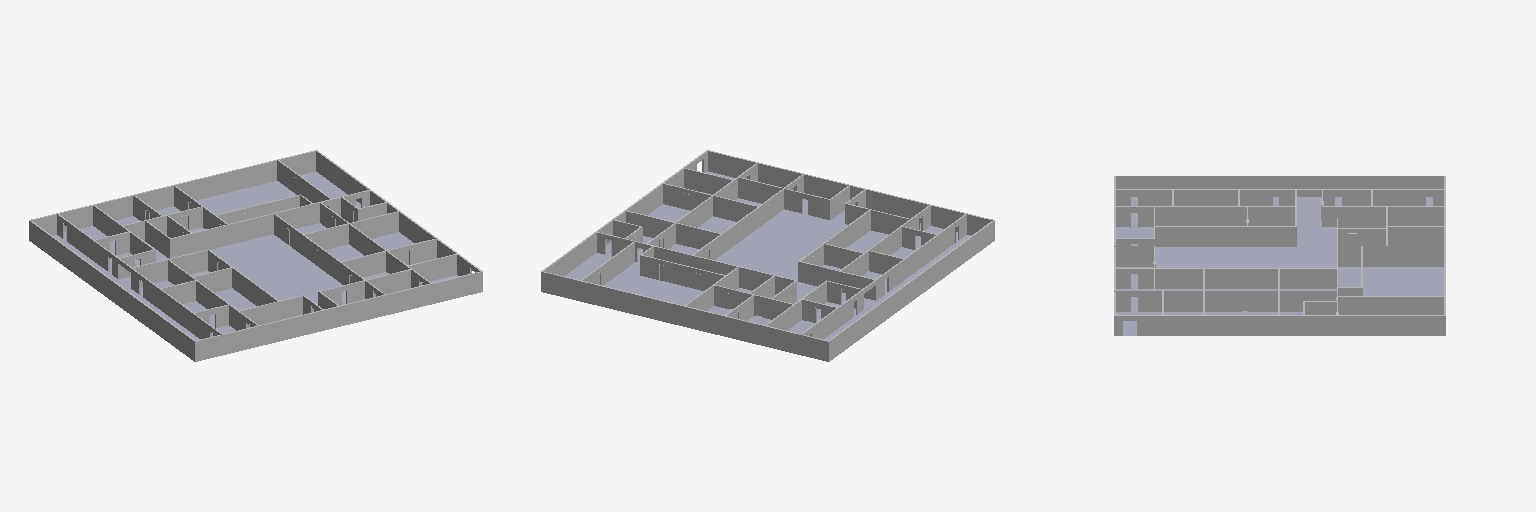
The model's file is CasaClaro2.obj.
The picture shows the model from 3 angles: view 1: azimuth 30°, elevation 25°; view 2: azimuth 150°, elevation 25°; view 3: azimuth 270°, elevation 25°; orthographic projection.
Visible parts, largest first — view 1: Wall_Wall.003, Plane.001, Wall.009_Wall.013, Wall.002_Wall.006, Wall.011_Wall.016, Wall.005_Wall.001, Wall.008_Wall.011, Wall.026_Wall.004, Wall.006_Wall.010, Wall.015_Wall.020, Wall.003_Wall.007, Wall.014_Wall.019 (+11 smaller); view 2: Wall_Wall.003, Plane.001, Wall.002_Wall.006, Wall.009_Wall.013, Wall.008_Wall.011, Wall.015_Wall.020, Wall.005_Wall.001, Wall.026_Wall.004, Wall.011_Wall.016, Wall.006_Wall.010, Wall.003_Wall.007, Wall.017_Wall.022 (+10 smaller); view 3: Wall_Wall.003, Plane.001, Wall.002_Wall.006, Wall.009_Wall.013, Wall.011_Wall.016, Wall.026_Wall.004, Wall.005_Wall.001, Wall.014_Wall.019, Wall.016_Wall.021, Wall.008_Wall.011, Wall.003_Wall.007, Wall.019_Wall.024 (+5 smaller).
Part boxes in pixels (left/top/right/bottom): Wall_Wall.003: left=29, top=150, right=482, bottom=361; Plane.001: left=53, top=171, right=458, bottom=340; Wall.009_Wall.013: left=169, top=213, right=364, bottom=284; Wall.002_Wall.006: left=56, top=213, right=222, bottom=339; Wall.011_Wall.016: left=275, top=202, right=411, bottom=273; Wall.005_Wall.001: left=133, top=259, right=229, bottom=327; Wall.008_Wall.011: left=318, top=269, right=432, bottom=322; Wall.026_Wall.004: left=169, top=249, right=278, bottom=305; Wall.006_Wall.010: left=240, top=295, right=323, bottom=327; Wall.015_Wall.020: left=214, top=194, right=312, bottom=227; Wall.003_Wall.007: left=93, top=204, right=130, bottom=254; Wall.014_Wall.019: left=277, top=160, right=332, bottom=209; Wall_Wall.003: left=541, top=150, right=994, bottom=361; Plane.001: left=565, top=171, right=970, bottom=340; Wall.002_Wall.006: left=800, top=213, right=967, bottom=354; Wall.009_Wall.013: left=691, top=189, right=796, bottom=294; Wall.008_Wall.011: left=737, top=162, right=850, bottom=219; Wall.015_Wall.020: left=640, top=246, right=738, bottom=290; Wall.005_Wall.001: left=839, top=226, right=936, bottom=299; Wall.026_Wall.004: left=798, top=210, right=870, bottom=286; Wall.011_Wall.016: left=645, top=178, right=737, bottom=266; Wall.006_Wall.010: left=845, top=189, right=909, bottom=234; Wall.003_Wall.007: left=764, top=299, right=836, bottom=346; Wall.017_Wall.022: left=714, top=285, right=770, bottom=318; Wall_Wall.003: left=1114, top=176, right=1445, bottom=335; Plane.001: left=1116, top=197, right=1443, bottom=335; Wall.002_Wall.006: left=1114, top=189, right=1445, bottom=205; Wall.009_Wall.013: left=1155, top=218, right=1337, bottom=288; Wall.011_Wall.016: left=1155, top=269, right=1337, bottom=311; Wall.026_Wall.004: left=1155, top=207, right=1296, bottom=246; Wall.005_Wall.001: left=1172, top=190, right=1296, bottom=225; Wall.014_Wall.019: left=1338, top=296, right=1443, bottom=314; Wall.016_Wall.021: left=1363, top=246, right=1443, bottom=266; Wall.008_Wall.011: left=1114, top=246, right=1154, bottom=311; Wall.003_Wall.007: left=1371, top=190, right=1445, bottom=225; Wall.019_Wall.024: left=1388, top=226, right=1443, bottom=245.
Bounding box in the file's own units: 40.01 × 2.7 × 40.